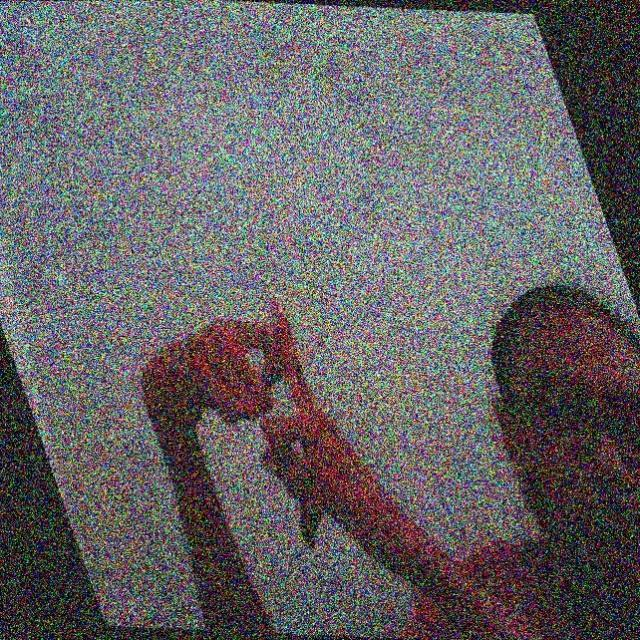K: (200, 286, 350, 508)
